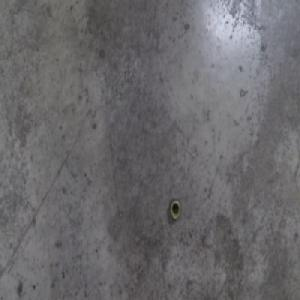Nut: (169, 198, 181, 222)
